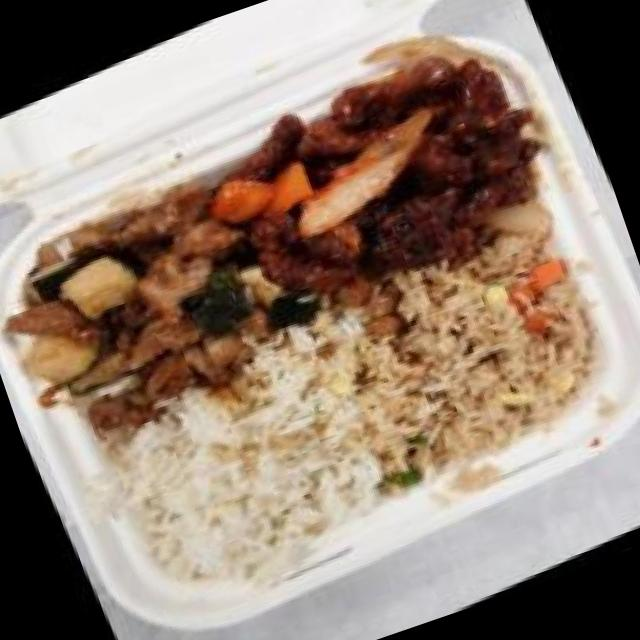Beijing Beef: (210, 12, 585, 340)
Fried Rice: (298, 195, 640, 503)
Kung Pao Chicken: (0, 141, 327, 468)
White Steamed Rice: (74, 324, 416, 624)
